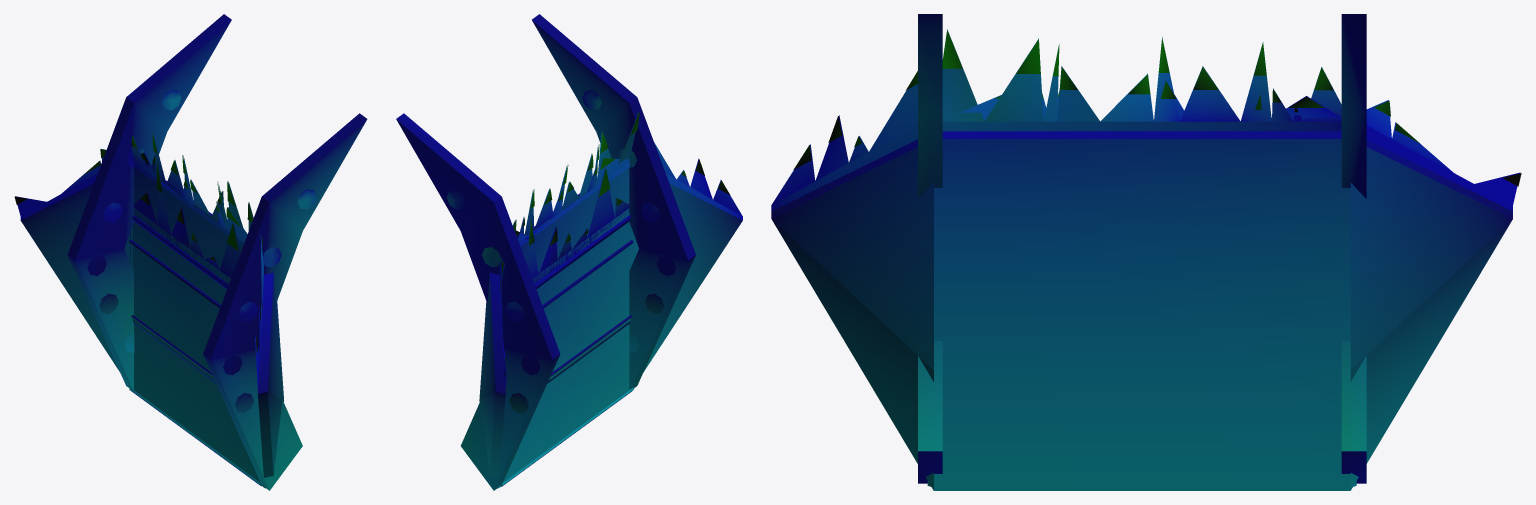
The model's file is crashrib.glb.
3 renders of one model, left to right at view 1: azimuth 30°, elevation 25°; view 2: azimuth 150°, elevation 25°; view 3: azimuth 270°, elevation 25°, orthographic. The views are drawn at different scales.
Parts seen in each view (by area): view 1: lod0; view 2: lod0; view 3: lod0.
Part boxes in pixels (x1=…): lod0: x1=14, y1=14, x2=367, y2=490; lod0: x1=396, y1=14, x2=742, y2=490; lod0: x1=771, y1=14, x2=1521, y2=490.
Size of what is drawn, in the model's own units: 8.21 by 17 by 21.24.
